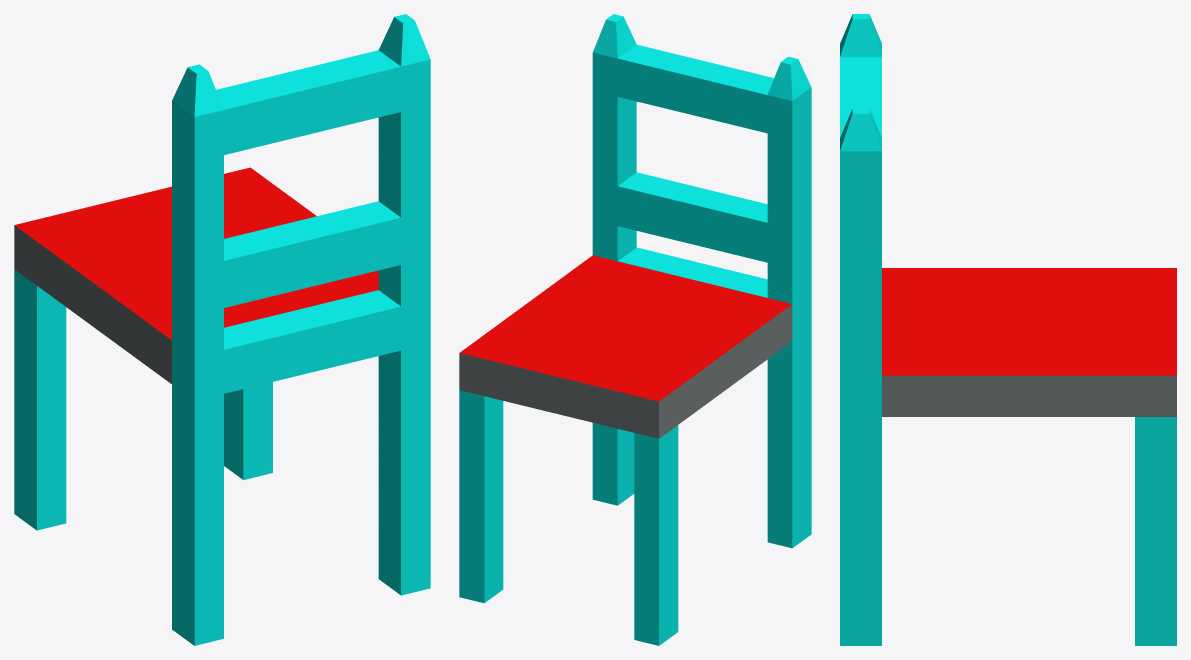
The model's file is Chair.fbx.
3 views of the same model, side by side, from view 1: azimuth 30°, elevation 25°; view 2: azimuth 150°, elevation 25°; view 3: azimuth 270°, elevation 25° (orthographic). The views are drawn at different scales.
Parts seen in each view (by area): view 1: Cube; view 2: Cube; view 3: Cube.
Part boxes in pixels (x1=…): Cube: x1=14, y1=14, x2=430, y2=645; Cube: x1=459, y1=14, x2=811, y2=645; Cube: x1=840, y1=14, x2=1176, y2=645.
Bounding box in the file's own units: 151 × 346 × 200.
1 material, 1 textured.
